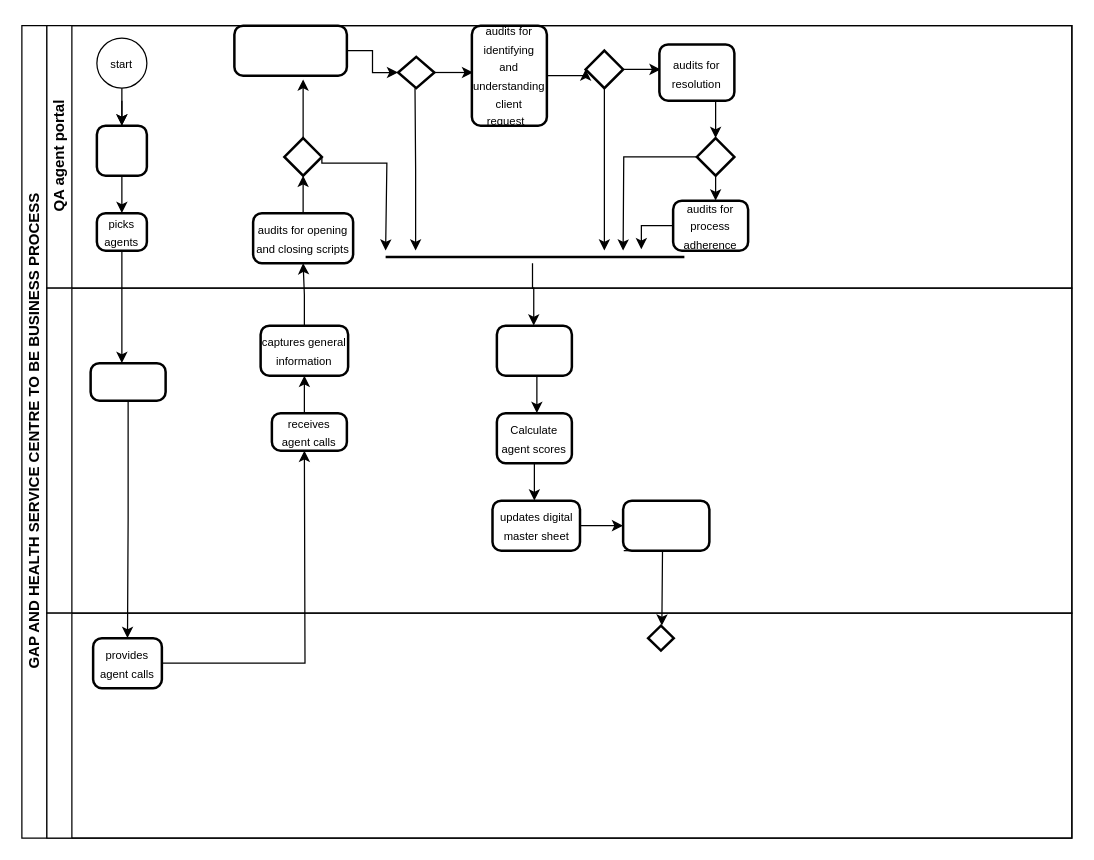
The diagram is 1094 pixels wide and 860 high, and some of its shapes have lost their labels. Here are the shapes that lost their labels. From the top down, the box of each, then its label:
(232, 24, 348, 76): audit for compulsory qualify question
(95, 124, 148, 176): Views agents list
(495, 324, 572, 376): updates scorecard
(89, 361, 166, 401): retrieves agent calls
(46, 287, 1072, 613): REM digital system
(621, 499, 710, 551): extracts workflow and putty stats
(46, 612, 1072, 838): External systems
